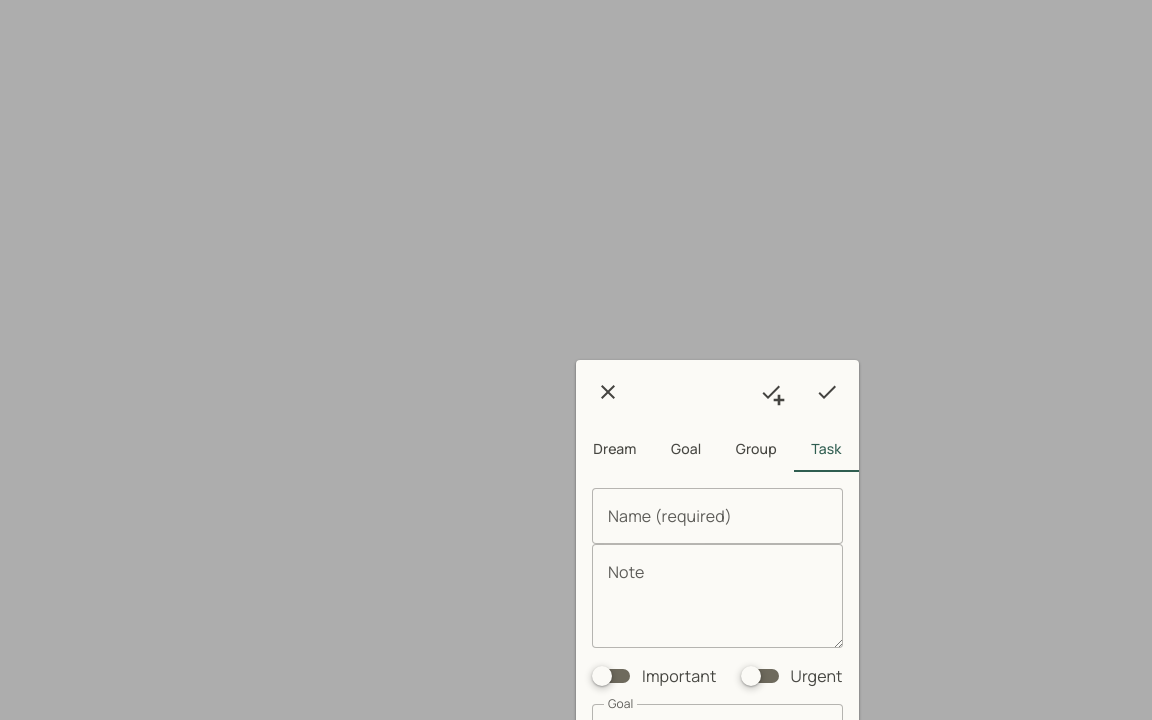
it: AddEntityDialog saving and starting a new one › blocks and shows an error when the name is empty, without clearing note
Click the button named "Save & New".
click(771, 392)  # box 747,368 -> 795,416
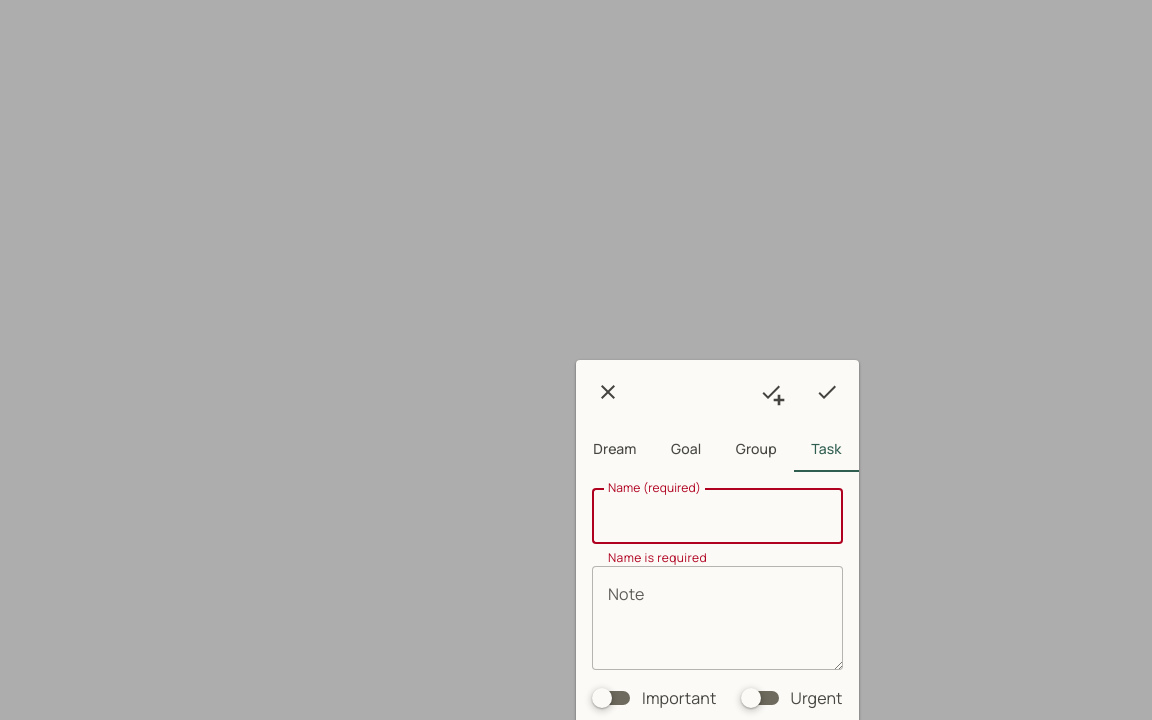
Now the text "Name is required" is shown, box 608,549 -> 707,566
